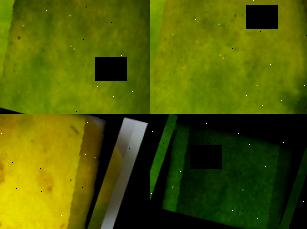PartiallyRipe: (150, 0, 307, 114), (0, 0, 150, 114)
Ripe: (0, 114, 123, 229)
Unripe: (150, 114, 305, 229)
